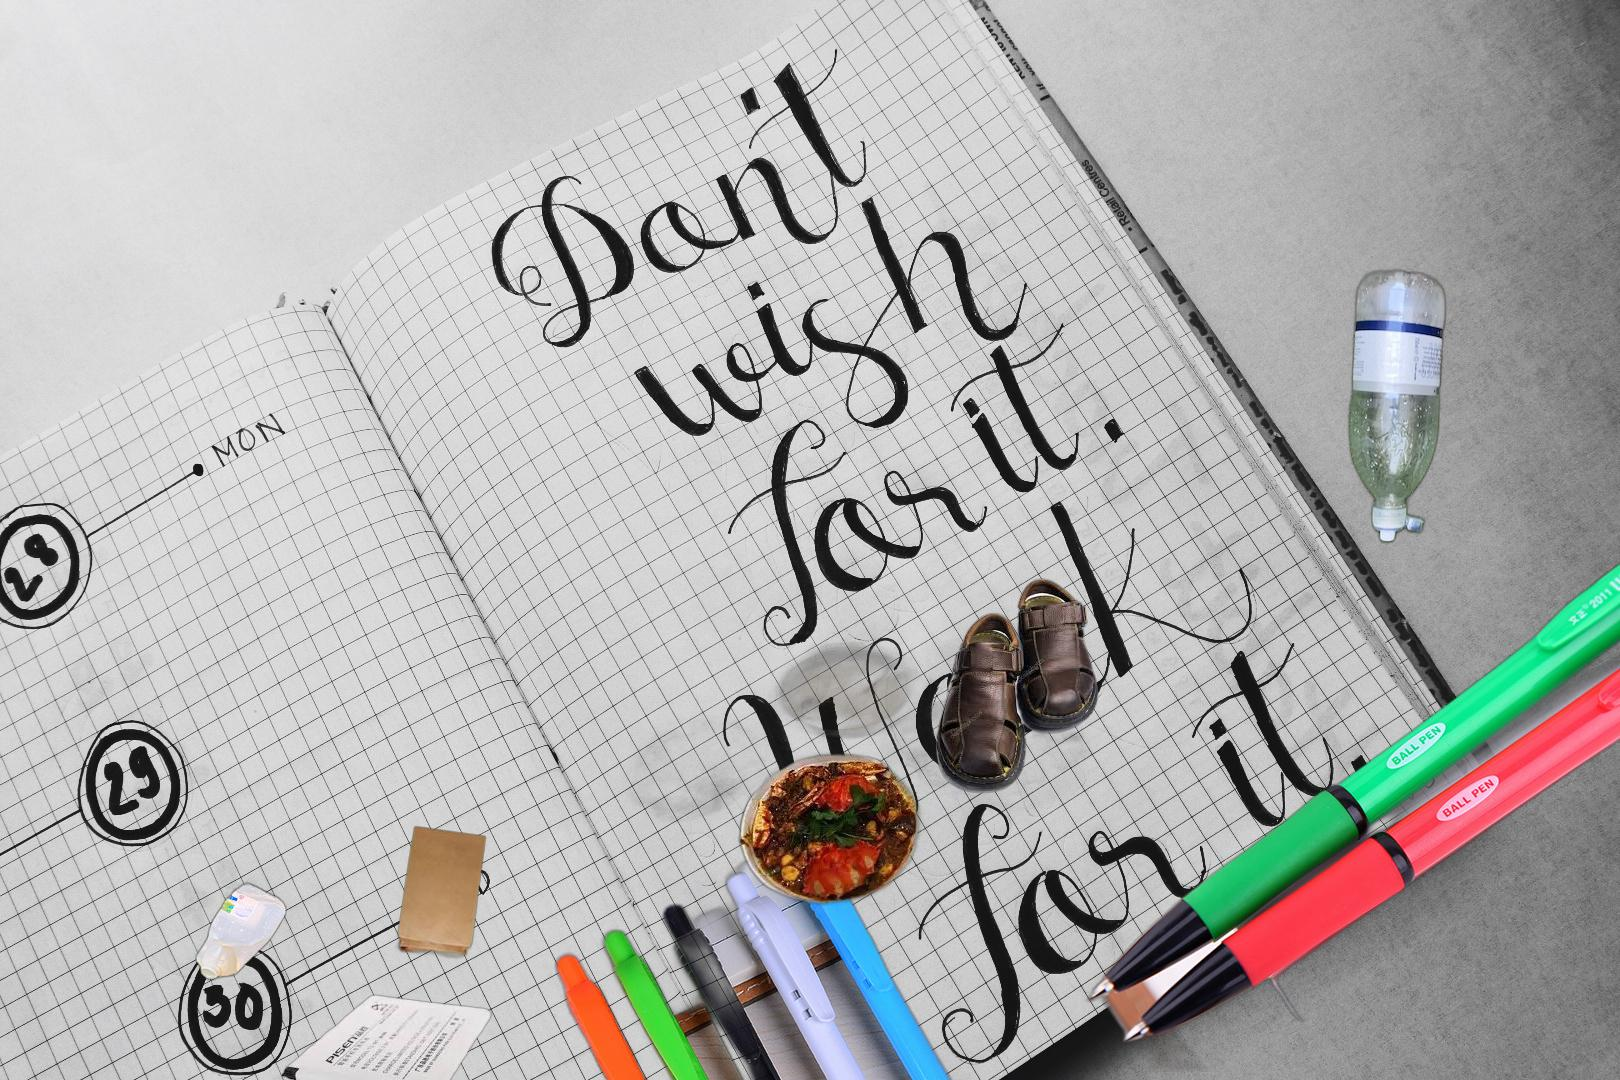battery: (275, 992, 495, 1080)
biological: (575, 539, 1160, 937)
paper-bag: (393, 824, 489, 959)
penholder: (1080, 507, 1620, 1072), (550, 834, 1064, 1080)
plastic-bottles: (1344, 264, 1450, 548), (190, 877, 290, 985)
shoes: (933, 576, 1100, 796)
